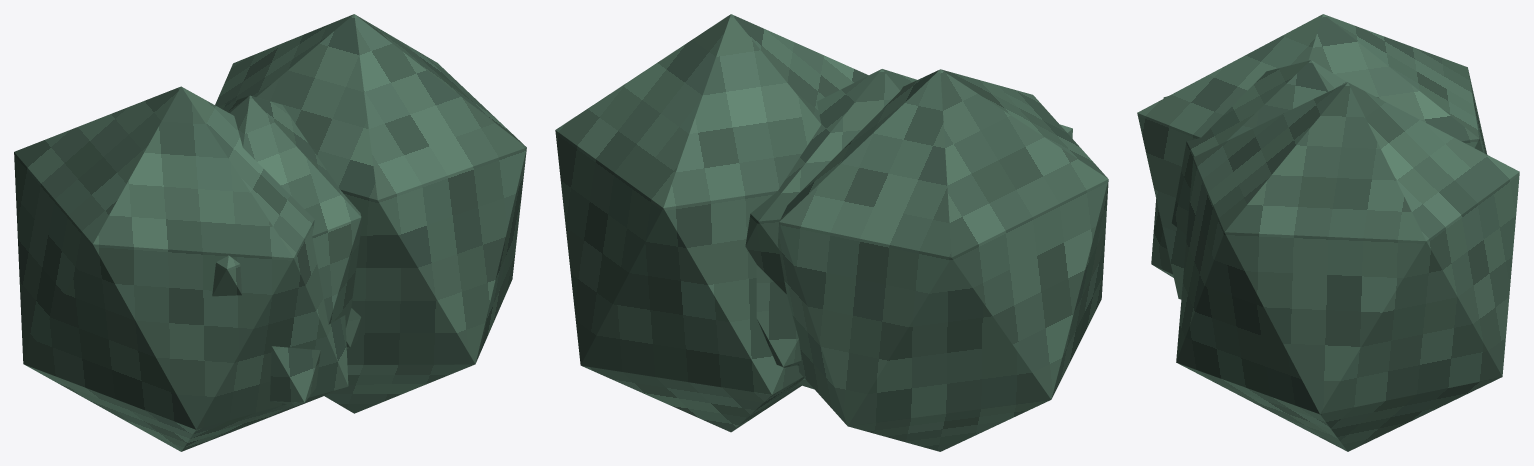
Rendered from ruin_44.glb.
3 views of the same model, side by side, from view 1: azimuth 30°, elevation 25°; view 2: azimuth 150°, elevation 25°; view 3: azimuth 270°, elevation 25° (orthographic). The views are drawn at different scales.
Visible parts, largest first — view 1: WeatheredStone, WeatheredStone.003, WeatheredStone.001; view 2: WeatheredStone, WeatheredStone.003, WeatheredStone.001, WeatheredStone.002; view 3: WeatheredStone.003, WeatheredStone, WeatheredStone.001.
Boxes of the visible parts, box(x1,y1,x2,y2) form: WeatheredStone: box(14, 86, 348, 451); WeatheredStone.003: box(215, 14, 526, 413); WeatheredStone.001: box(212, 95, 361, 410); WeatheredStone: box(777, 69, 1108, 451); WeatheredStone.003: box(555, 14, 868, 432); WeatheredStone.001: box(745, 69, 1072, 389); WeatheredStone.002: box(756, 265, 801, 388); WeatheredStone.003: box(1176, 82, 1519, 451); WeatheredStone: box(1137, 14, 1487, 299); WeatheredStone.001: box(1151, 60, 1347, 277).
Bounding box in the file's own units: 3.34 × 2.76 × 2.59.
Materials: 1 (1 with a texture image).
